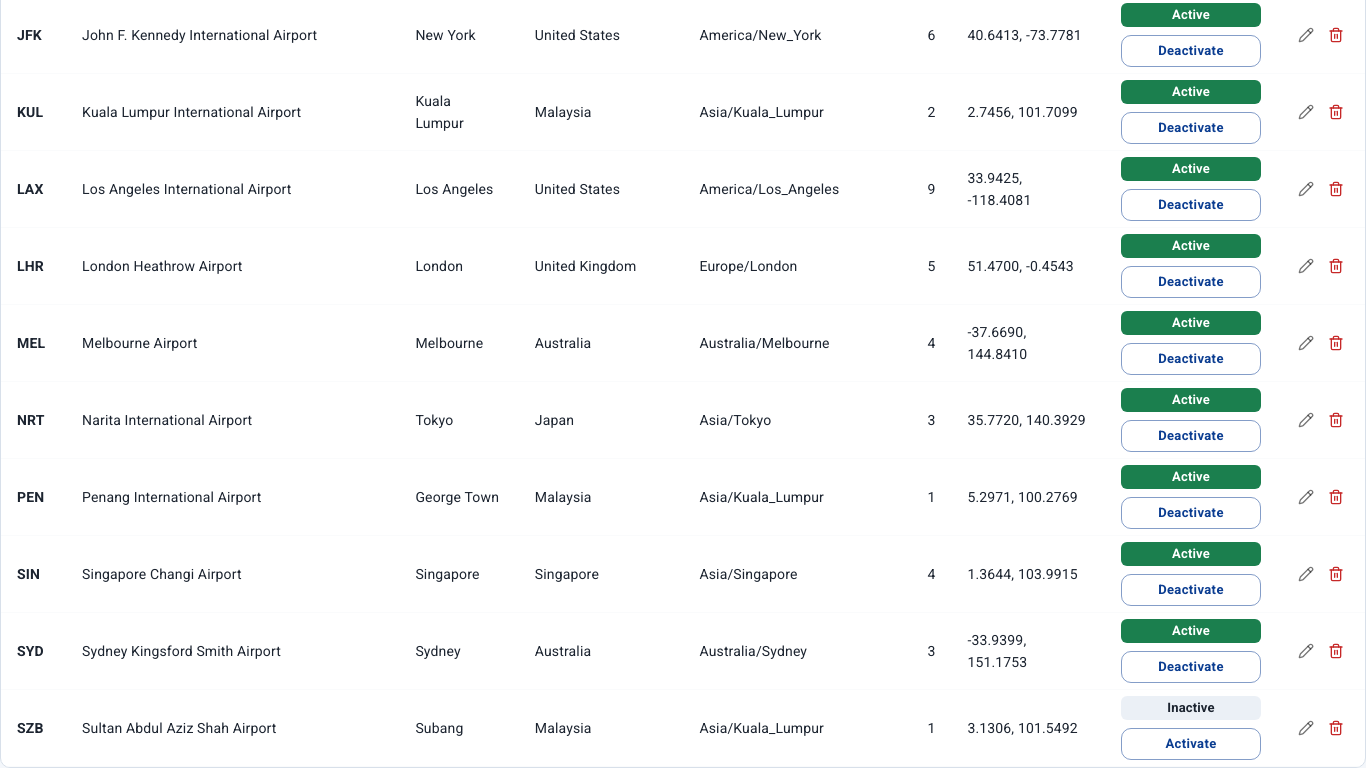
AdminAirportsPage › toggles active status and deletes an airport with confirmation
(page scrolled)
Expected: the text "SZB" is shown, [17,720,44,736]
Click the button "Activate" at x=1191, y=744, box [1121,728,1261,760]
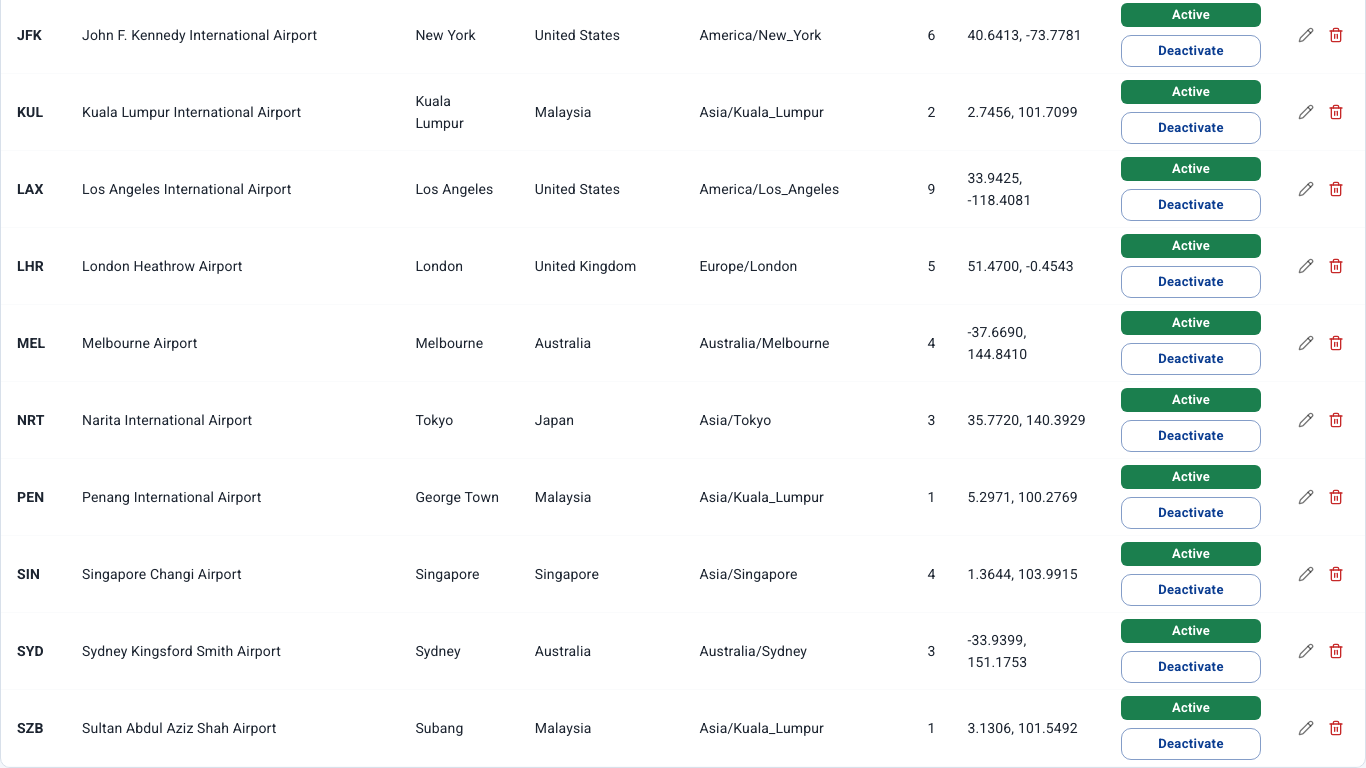
Click the button named "Delete SZB" at x=1336, y=728, box [1323,715,1349,741]
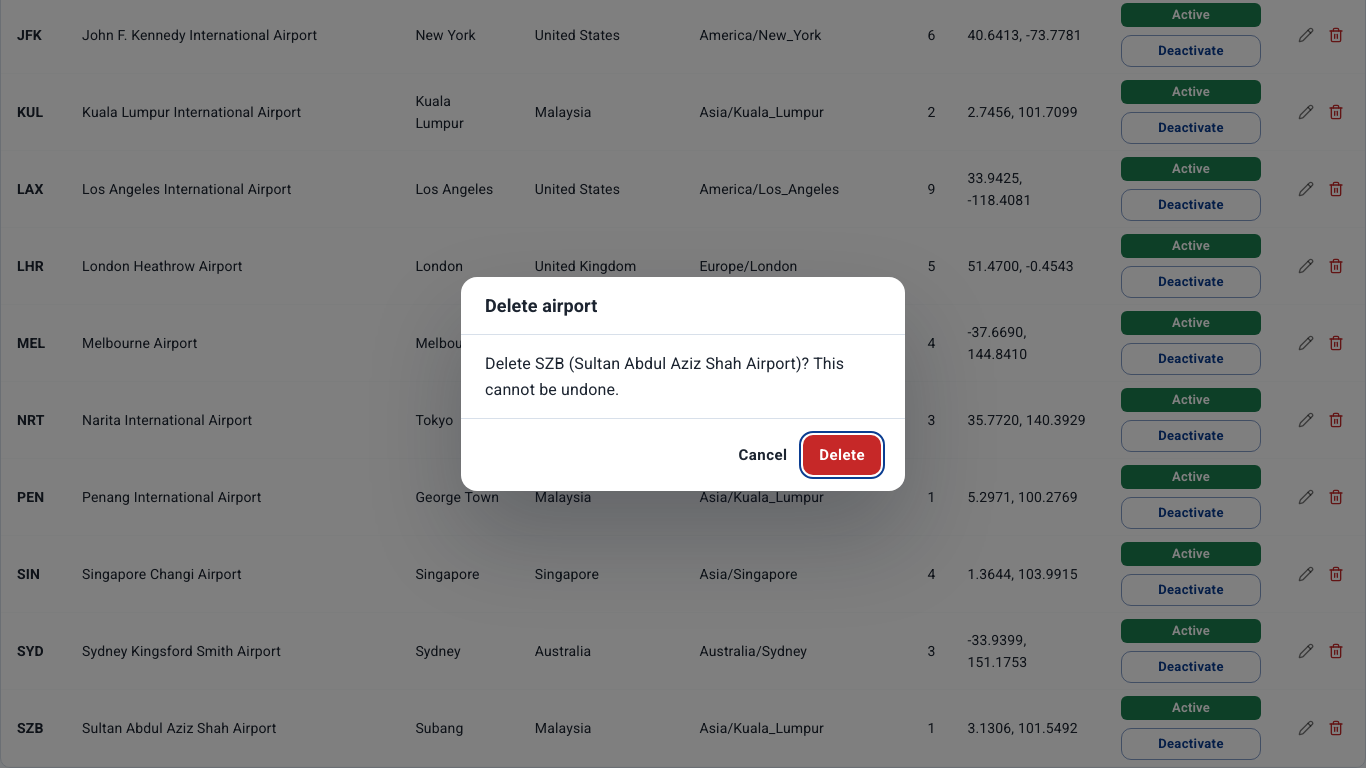
Expected: the text "Delete SZB" is shown, [485,354,844,399]
Click the button "Delete" at x=842, y=455, box [803,435,881,475]
(page scrolled)
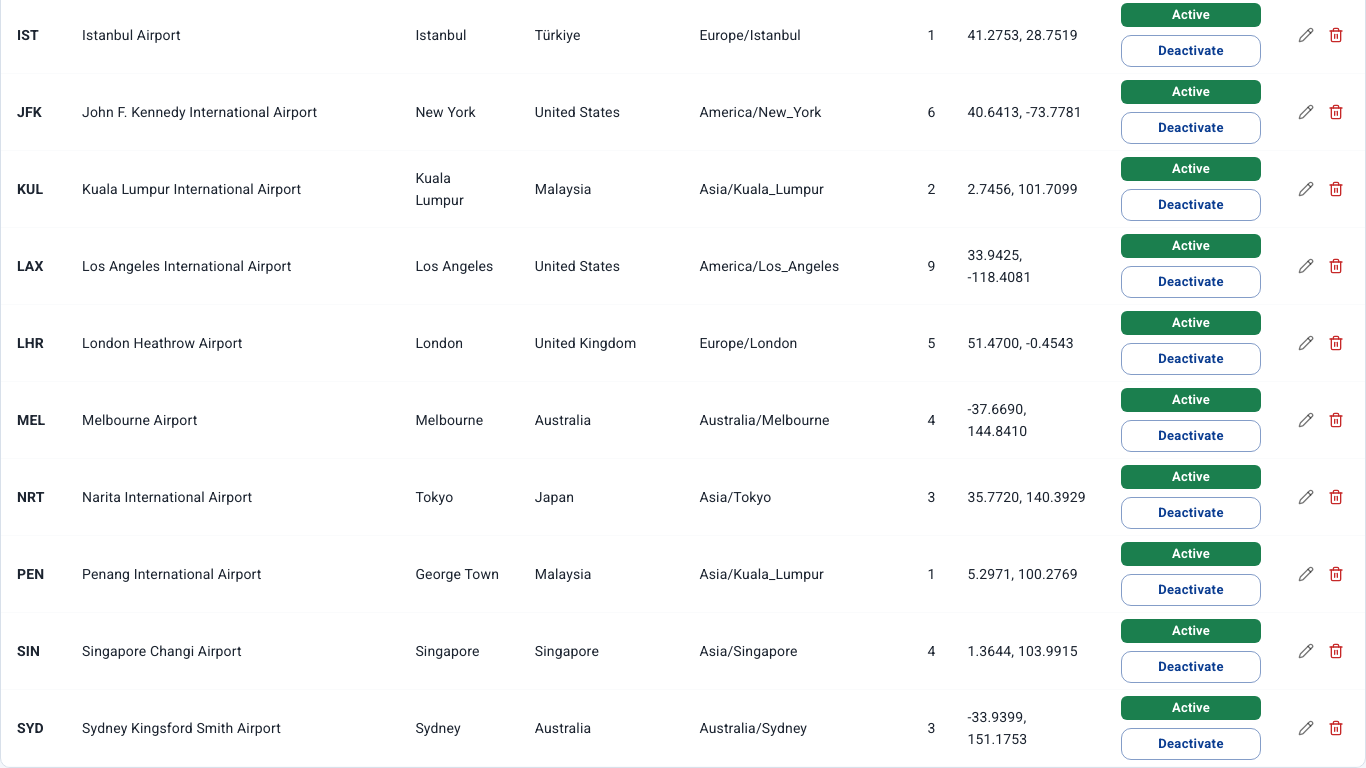
Expected: the text "SZB" is gone
